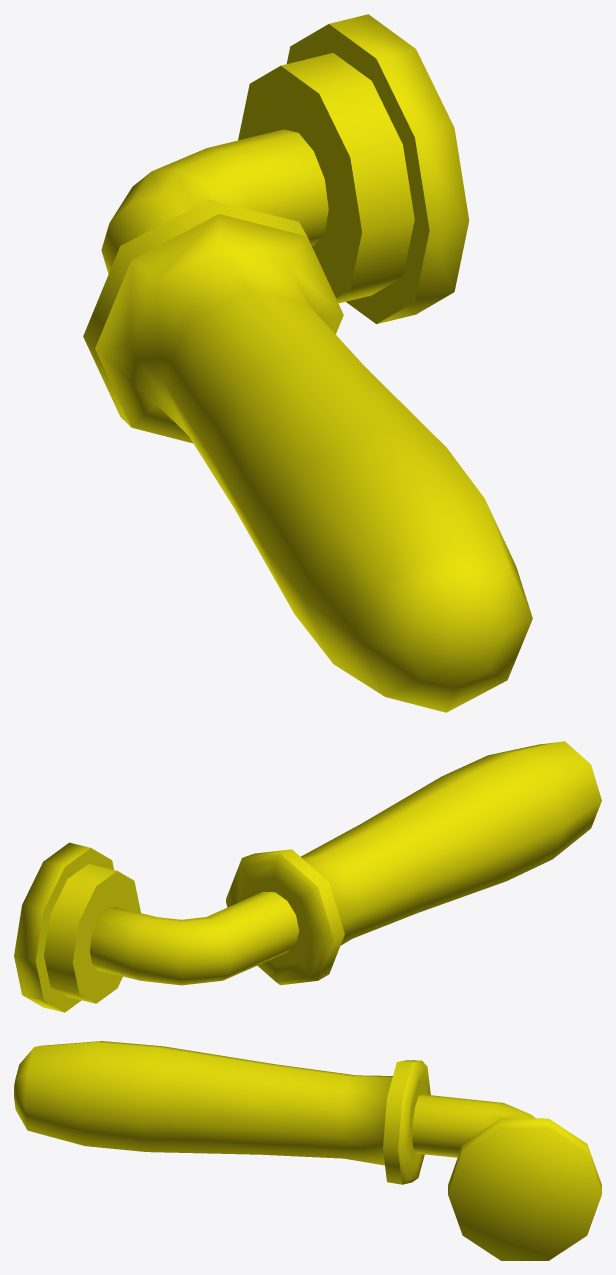
The model's file is Handle.fbx.
The picture shows the model from 3 angles, top to bottom: view 1: azimuth 30°, elevation 25°; view 2: azimuth 150°, elevation 25°; view 3: azimuth 270°, elevation 25°; orthographic projection. The views are drawn at different scales.
Parts seen in each view (by area): view 1: Handle; view 2: Handle; view 3: Handle.
Part boxes in pixels (<box>): Handle: <box>83,14,532,712</box>; Handle: <box>14,741,601,1012</box>; Handle: <box>14,1041,601,1260</box>.
Bounding box in the file's own units: 10.24 × 5.06 × 20.3.
